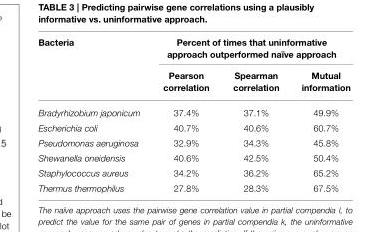table: (37, 37, 349, 192)
table column: (37, 37, 150, 192), (150, 37, 220, 192), (220, 37, 289, 192), (289, 37, 349, 192)
table column header: (37, 37, 349, 100)
table row: (37, 64, 349, 100), (37, 37, 349, 64), (37, 100, 349, 120), (37, 120, 349, 135), (37, 135, 349, 150), (37, 150, 349, 165), (37, 165, 349, 180), (37, 180, 349, 192)
table spanning cell: (37, 37, 150, 100), (150, 37, 349, 64)
